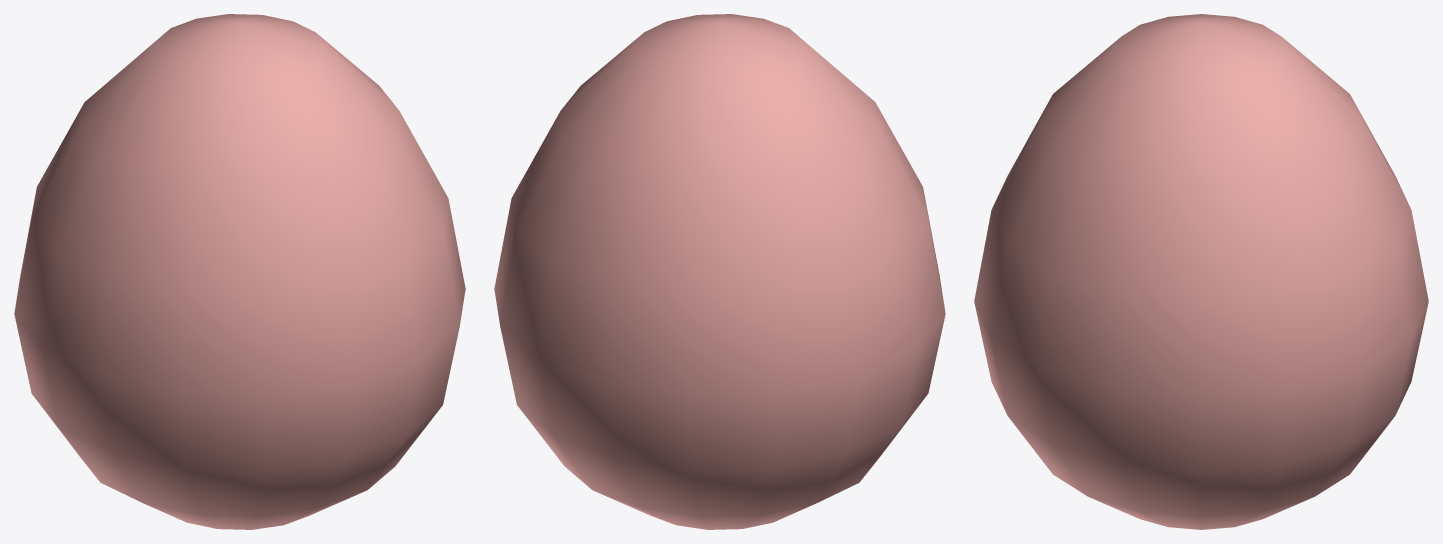
File: testa_bianca.glb
3 views of the same model, side by side, from view 1: azimuth 30°, elevation 25°; view 2: azimuth 150°, elevation 25°; view 3: azimuth 270°, elevation 25° (orthographic).
Parts seen in each view (by area): view 1: mastro_testa.001; view 2: mastro_testa.001; view 3: mastro_testa.001.
Boxes of the visible parts, x1,y1,x2,y2 form: mastro_testa.001: (14,14,465,529); mastro_testa.001: (494,14,945,529); mastro_testa.001: (974,14,1428,529).
Bounding box in the file's own units: 0.2118 × 0.2496 × 0.2118.
